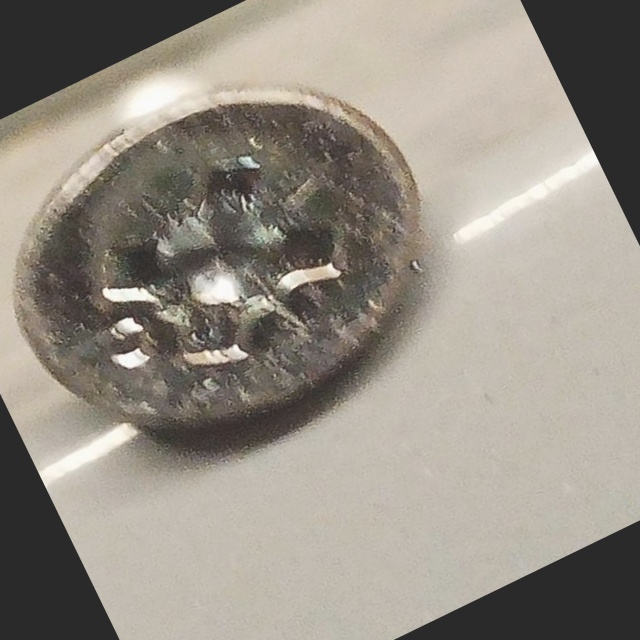pozidriv: (0, 18, 484, 499)
